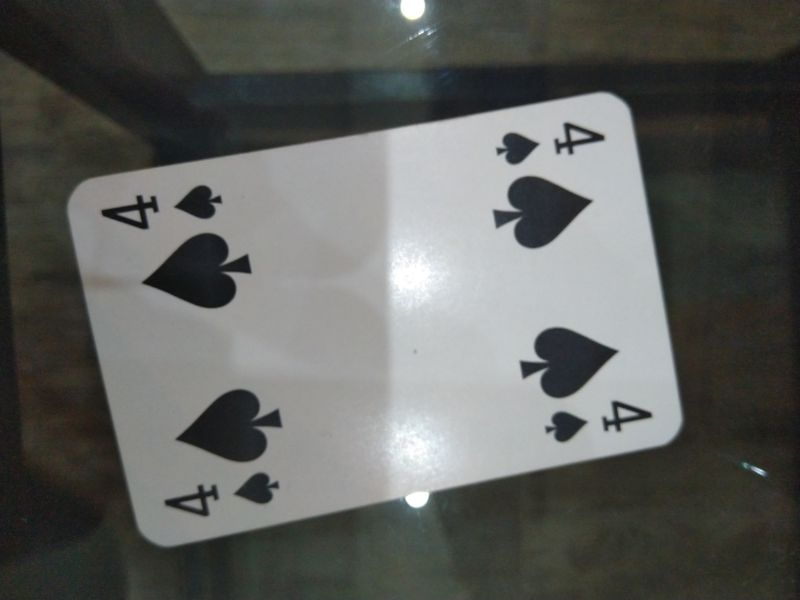4s: (97, 180, 230, 233), (488, 118, 611, 168), (162, 470, 283, 520), (538, 396, 657, 445)
